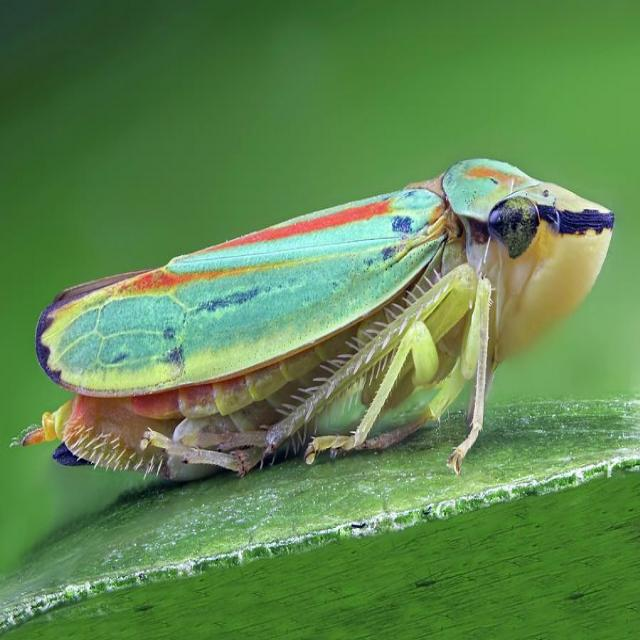Yechan: (2, 125, 631, 508)
